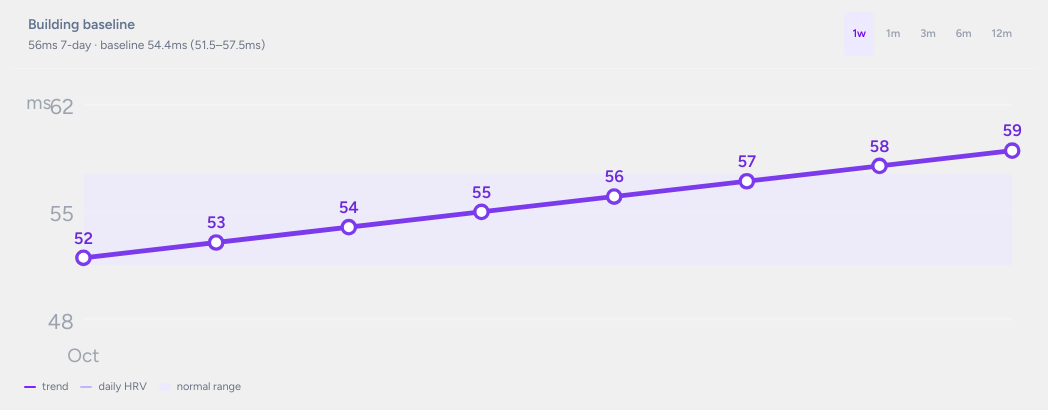
it: HrvChart › hides the per-dot HRV values on the 3m/6m/12m views
The image size is (1048, 410).
Expected: the text "59" is shown, x1=1003 y1=120 x2=1022 y2=140
Click the button "3m". click: (928, 34)
box: x1=912 y1=12 x2=944 y2=56
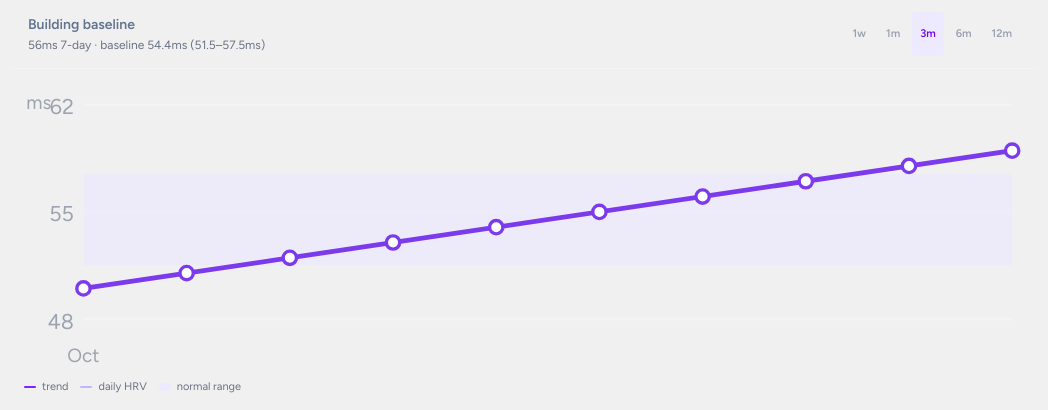
Expected: the icon "59" is gone
